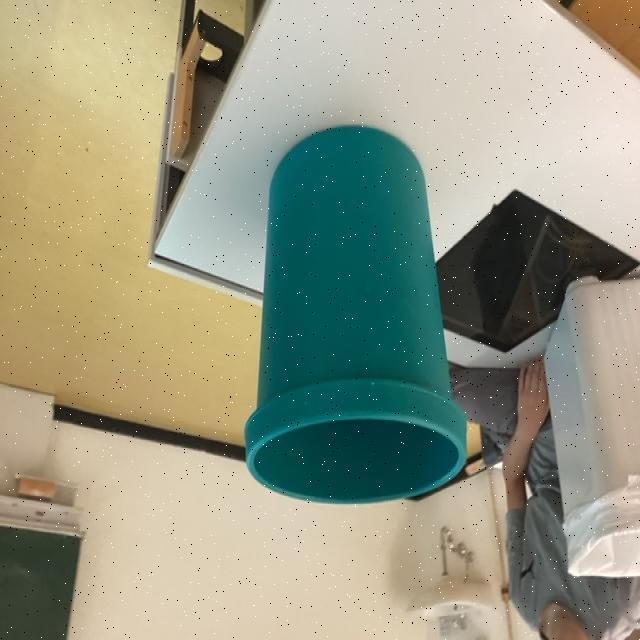garbage container: (190, 81, 474, 563)
